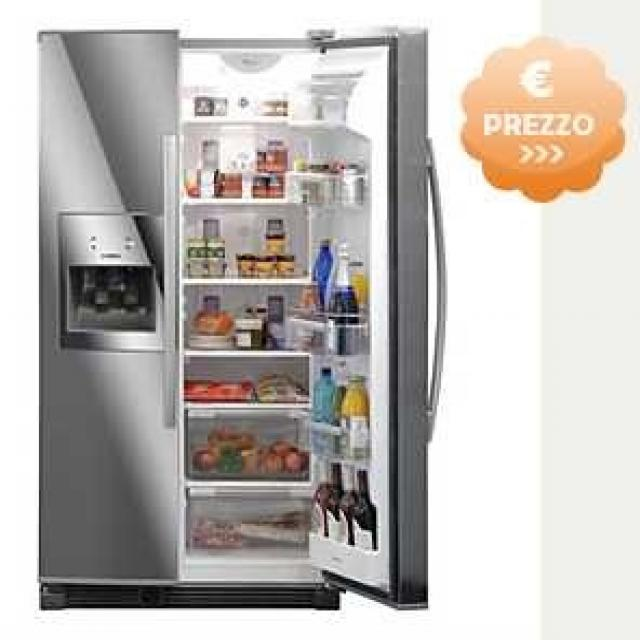refrigerator: (37, 29, 434, 609)
